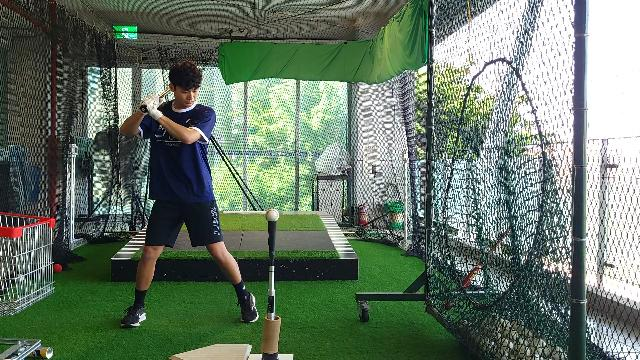bat: (156, 89, 172, 99)
